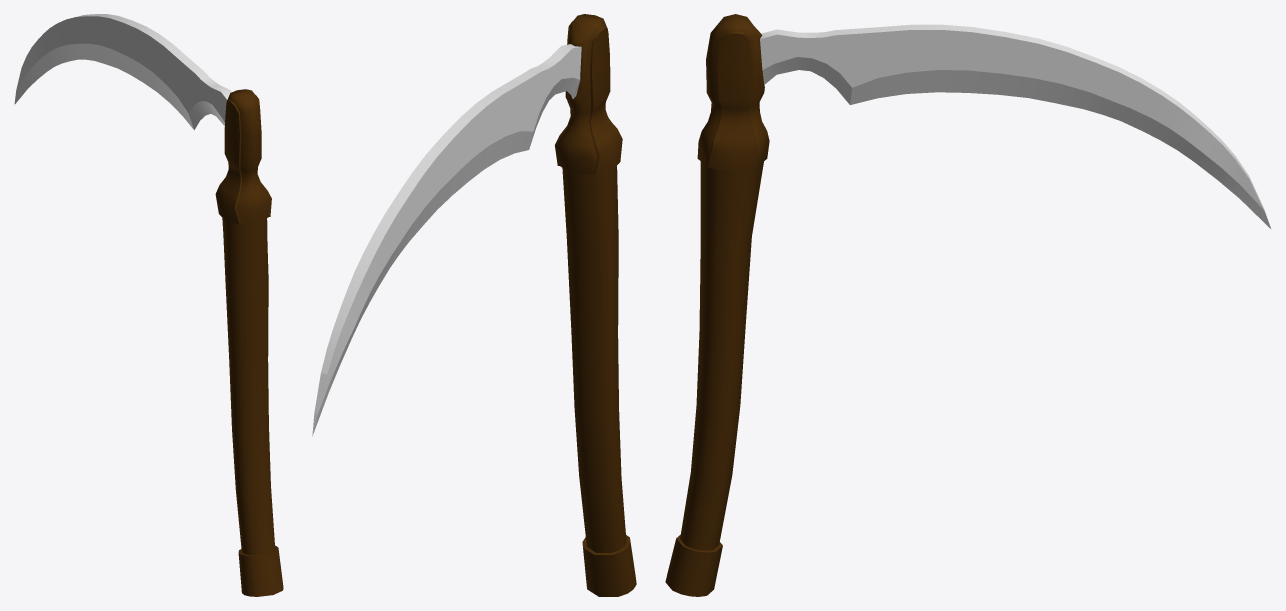
File: scythe.fbx
3 renders of one model, left to right at view 1: azimuth 30°, elevation 25°; view 2: azimuth 150°, elevation 25°; view 3: azimuth 270°, elevation 25°, orthographic. The views are drawn at different scales.
Parts seen in each view (by area): view 1: Scythe; view 2: Scythe; view 3: Scythe.
Boxes of the visible parts, x1=… form: Scythe: x1=14, y1=14, x2=283, y2=596; Scythe: x1=312, y1=14, x2=636, y2=596; Scythe: x1=665, y1=14, x2=1271, y2=596.
Bounding box in the file's own units: 34.82 × 375 × 361.
